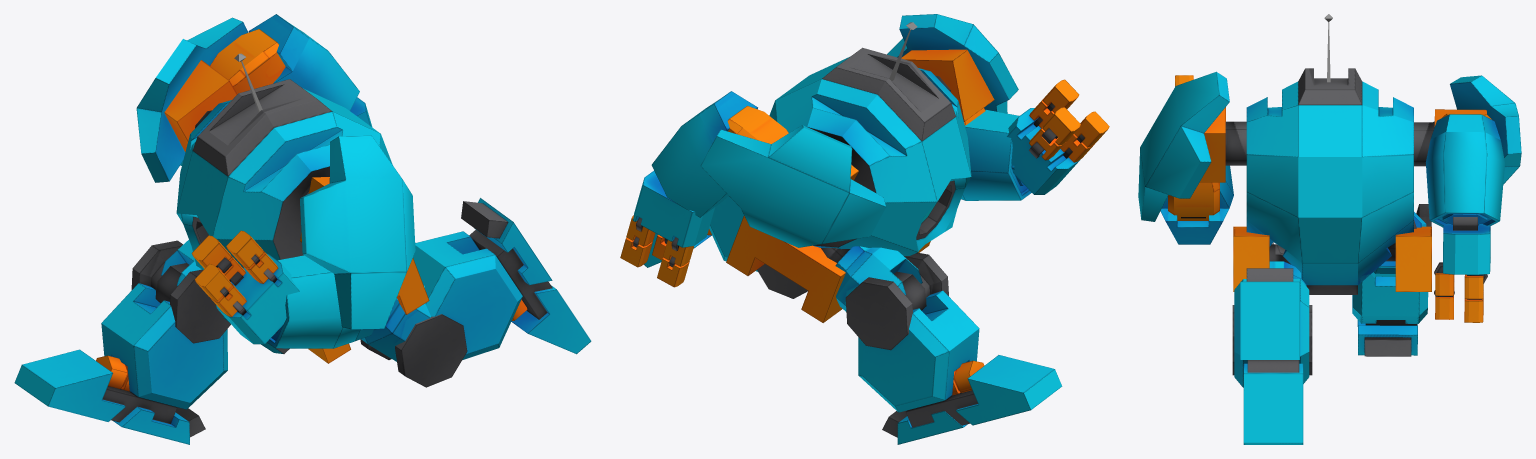
The model's file is Walk38.obj.
3 views of the same model, side by side, from view 1: azimuth 30°, elevation 25°; view 2: azimuth 150°, elevation 25°; view 3: azimuth 270°, elevation 25° (orthographic). The views are drawn at different scales.
Visible parts, largest first — view 1: Plane001, Object006, Object010, Object013, Object002, Object011, Object008, Object014, Object007, Object003, Object012, Object009; view 2: Plane001, Object002, Object010, Object011, Object006, Object008, Object004, Object003, Object007, Object009, Object013; view 3: Plane001, Object006, Object014, Object003, Object004, Object002, Object010, Object011, Object013, Object007, Object005, Object001 (+2 smaller).
Part boxes in pixels (x1,y1,x2,y2): Plane001: [176, 79, 429, 363]; Object006: [299, 135, 415, 329]; Object010: [101, 240, 230, 409]; Object013: [360, 231, 522, 387]; Object002: [136, 17, 285, 182]; Object011: [14, 349, 205, 444]; Object008: [191, 230, 299, 344]; Object014: [461, 198, 591, 354]; Object007: [267, 255, 373, 348]; Object003: [248, 14, 359, 110]; Object012: [361, 285, 430, 361]; Object009: [161, 240, 201, 286]; Plane001: [726, 47, 971, 322]; Object002: [700, 106, 886, 247]; Object010: [845, 252, 979, 412]; Object011: [882, 355, 1062, 444]; Object006: [887, 14, 1018, 125]; Object008: [1007, 79, 1109, 194]; Object004: [620, 170, 714, 287]; Object003: [651, 91, 757, 217]; Object007: [961, 109, 1031, 200]; Object009: [821, 246, 922, 311]; Object013: [709, 196, 807, 298]; Plane001: [1233, 68, 1431, 294]; Object006: [1138, 71, 1229, 221]; Object014: [1240, 268, 1303, 444]; Object003: [1425, 114, 1504, 227]; Object004: [1434, 217, 1490, 322]; Object002: [1433, 75, 1521, 184]; Object010: [1352, 204, 1431, 323]; Object011: [1357, 320, 1417, 356]; Object013: [1232, 279, 1312, 387]; Object007: [1160, 165, 1233, 244]; Object005: [1225, 121, 1246, 165]; Object001: [1414, 122, 1434, 166].
Size of the model in its own units: 236 by 186 by 182.
